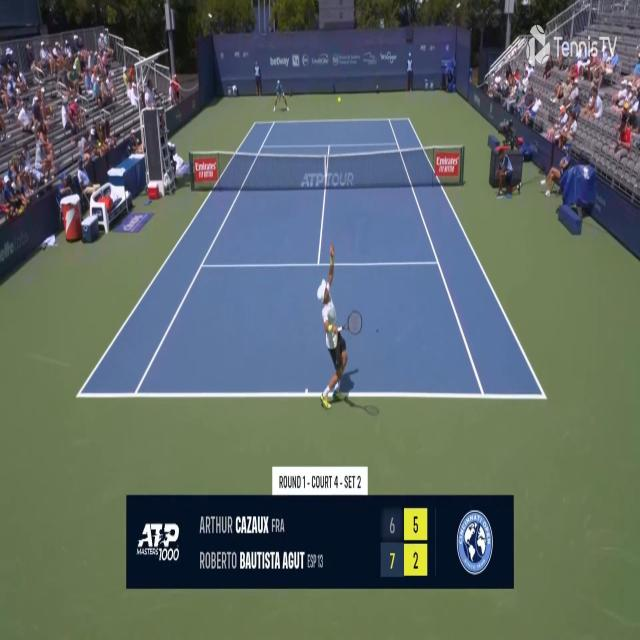tennis-player: (316, 240, 364, 417), (272, 78, 289, 113)
